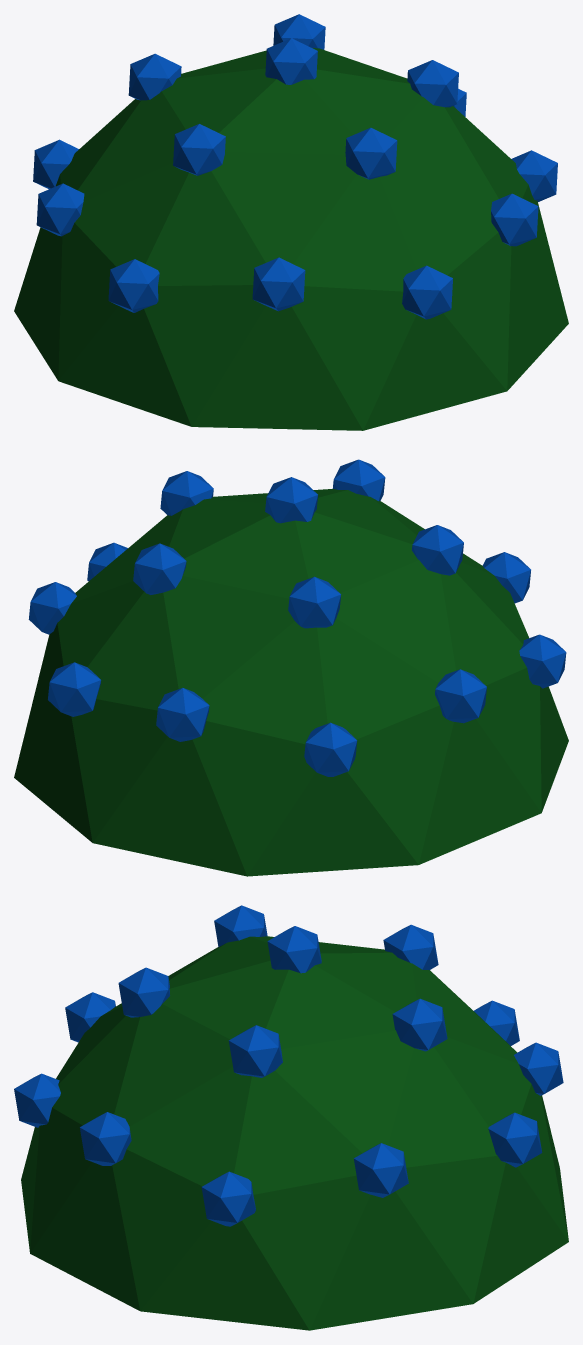
File: BushFruitsBlue.obj
The picture shows the model from 3 angles, top to bottom: view 1: azimuth 30°, elevation 25°; view 2: azimuth 150°, elevation 25°; view 3: azimuth 270°, elevation 25°; orthographic projection. The views are drawn at different scales.
Parts seen in each view (by area): view 1: BushFruitsBlue_Icosphere.064; view 2: BushFruitsBlue_Icosphere.064; view 3: BushFruitsBlue_Icosphere.064.
Boxes of the visible parts, left/top/right/bottom form: BushFruitsBlue_Icosphere.064: left=14, top=14, right=568, bottom=430; BushFruitsBlue_Icosphere.064: left=14, top=459, right=568, bottom=876; BushFruitsBlue_Icosphere.064: left=14, top=905, right=568, bottom=1330.
Size of the model in its own units: 6.05 by 3.36 by 5.92.
